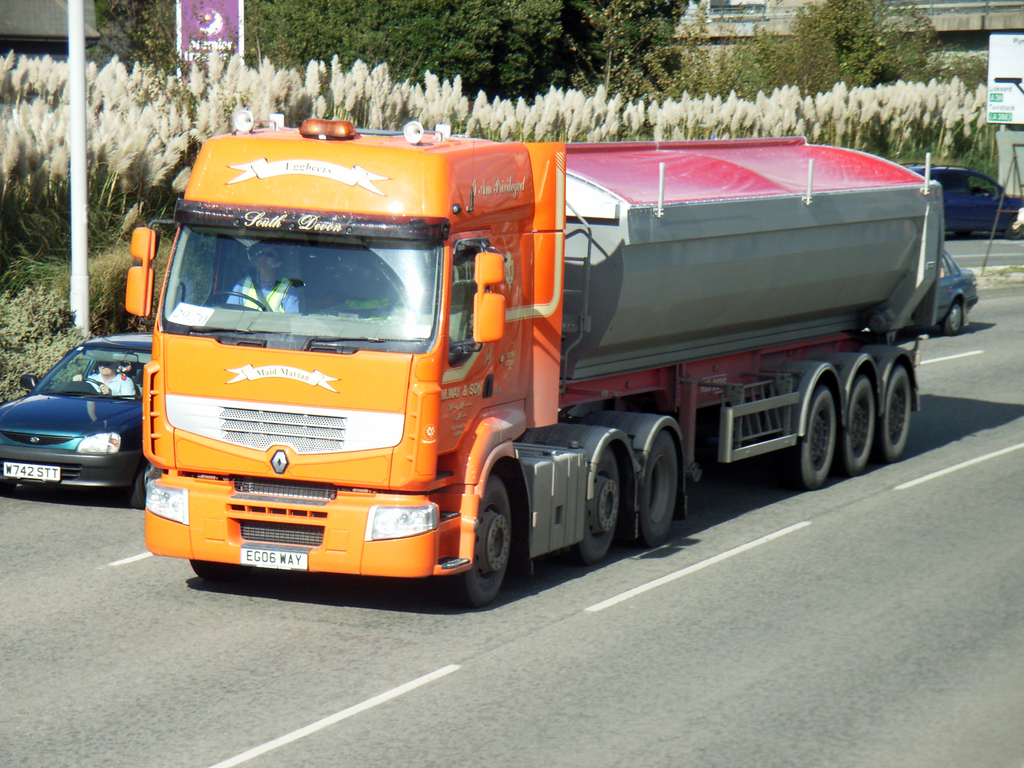Car: (5, 327, 147, 513), (897, 163, 1023, 231), (924, 246, 979, 339)
